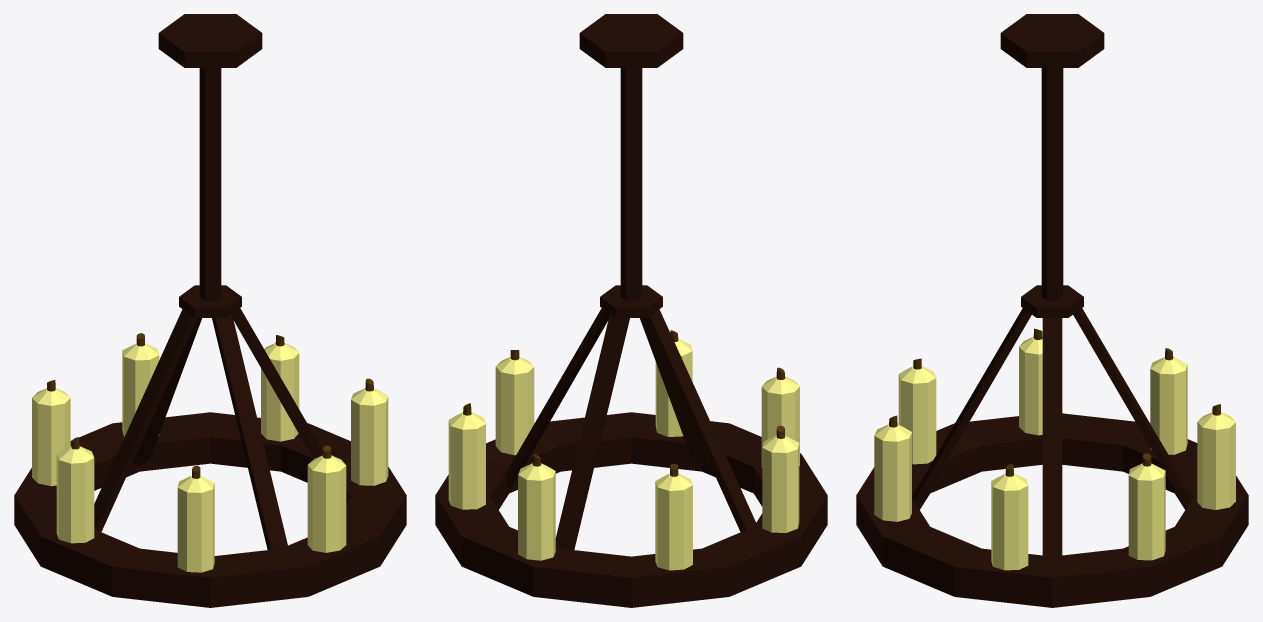
Rendered from Candle_chandelier.obj.
The picture shows the model from 3 angles, left to right: view 1: azimuth 30°, elevation 25°; view 2: azimuth 150°, elevation 25°; view 3: azimuth 270°, elevation 25°; orthographic projection.
Visible parts, largest first — view 1: Candle.007_Circle.023; view 2: Candle.007_Circle.023; view 3: Candle.007_Circle.023.
Boxes of the visible parts, x1,y1,x2,y2 form: Candle.007_Circle.023: [14, 14, 406, 607]; Candle.007_Circle.023: [435, 14, 827, 607]; Candle.007_Circle.023: [856, 14, 1248, 607].
Size of the model in its own units: 4.43 by 6.14 by 4.43.
